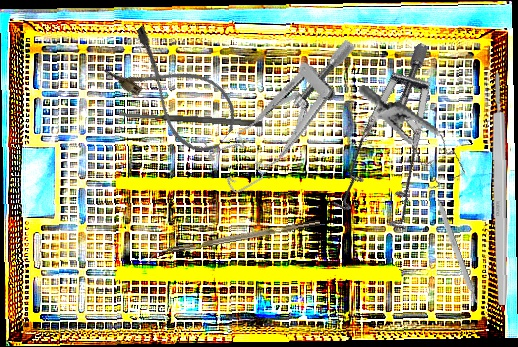Cannula: (100, 21, 249, 163)
Chopper: (144, 219, 322, 265)
Scalpel Handle: (434, 198, 479, 305), (490, 72, 510, 306)
Spatula Surgical: (118, 110, 263, 128)
Speculum: (289, 40, 509, 254), (191, 36, 389, 198), (339, 84, 481, 196)
